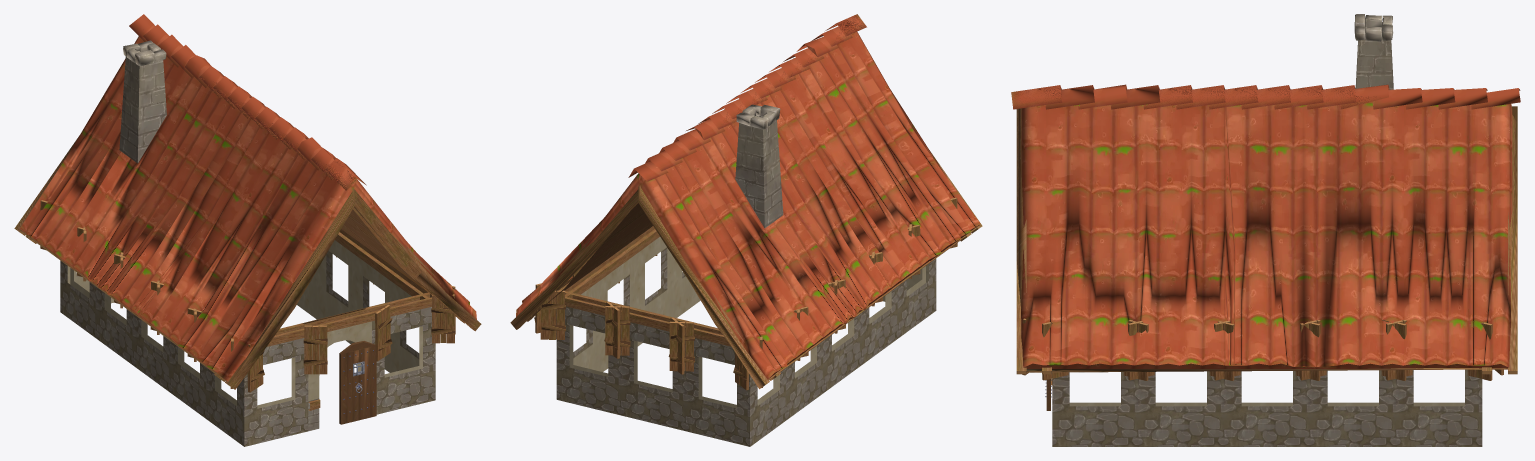
The model's file is Warehouse.medium.gltf.
The picture shows the model from 3 angles, left to right: view 1: azimuth 30°, elevation 25°; view 2: azimuth 150°, elevation 25°; view 3: azimuth 270°, elevation 25°; orthographic projection. The views are drawn at different scales.
Visible parts, largest first — view 1: Roof_RoundTiles_6x10, Wall_UnevenBrick_Window_Wide_Flat (×11), Prop_Chimney, WindowShutters_Wide_Flat_Open (×2), Door_2_Round, Wall_Plaster_Door_Round; view 2: Roof_RoundTiles_6x10, Wall_UnevenBrick_Window_Wide_Flat (×12), Prop_Chimney, WindowShutters_Wide_Flat_Open (×3); view 3: Roof_RoundTiles_6x10, Wall_UnevenBrick_Window_Wide_Flat (×5), Prop_Chimney, WindowShutters_Wide_Flat_Open (×5).
Boxes of the visible parts, x1,y1,x2,y2 form: Roof_RoundTiles_6x10: (14, 14, 481, 389); Wall_UnevenBrick_Window_Wide_Flat (×11): (60, 229, 435, 446); Prop_Chimney: (119, 40, 166, 163); WindowShutters_Wide_Flat_Open (×2): (247, 294, 455, 392); Door_2_Round: (339, 341, 376, 424); Wall_Plaster_Door_Round: (302, 307, 373, 431); Roof_RoundTiles_6x10: (510, 14, 982, 389); Wall_UnevenBrick_Window_Wide_Flat (×12): (556, 226, 936, 446); Prop_Chimney: (735, 104, 783, 228); WindowShutters_Wide_Flat_Open (×3): (540, 290, 748, 390); Roof_RoundTiles_6x10: (1011, 84, 1520, 374); Wall_UnevenBrick_Window_Wide_Flat (×5): (1052, 369, 1482, 446); Prop_Chimney: (1354, 14, 1393, 89); WindowShutters_Wide_Flat_Open (×5): (1042, 319, 1492, 380).
Bounding box in the file's own units: 8.25 × 8.68 × 11.85.
Materials: 7 (7 with a texture image).
